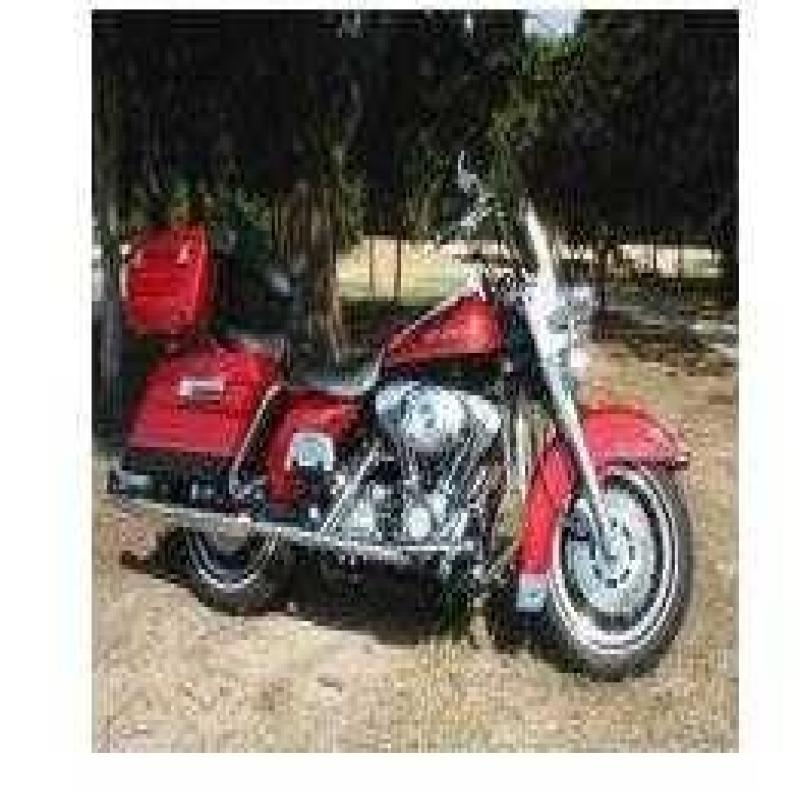bike: (98, 164, 728, 663)
